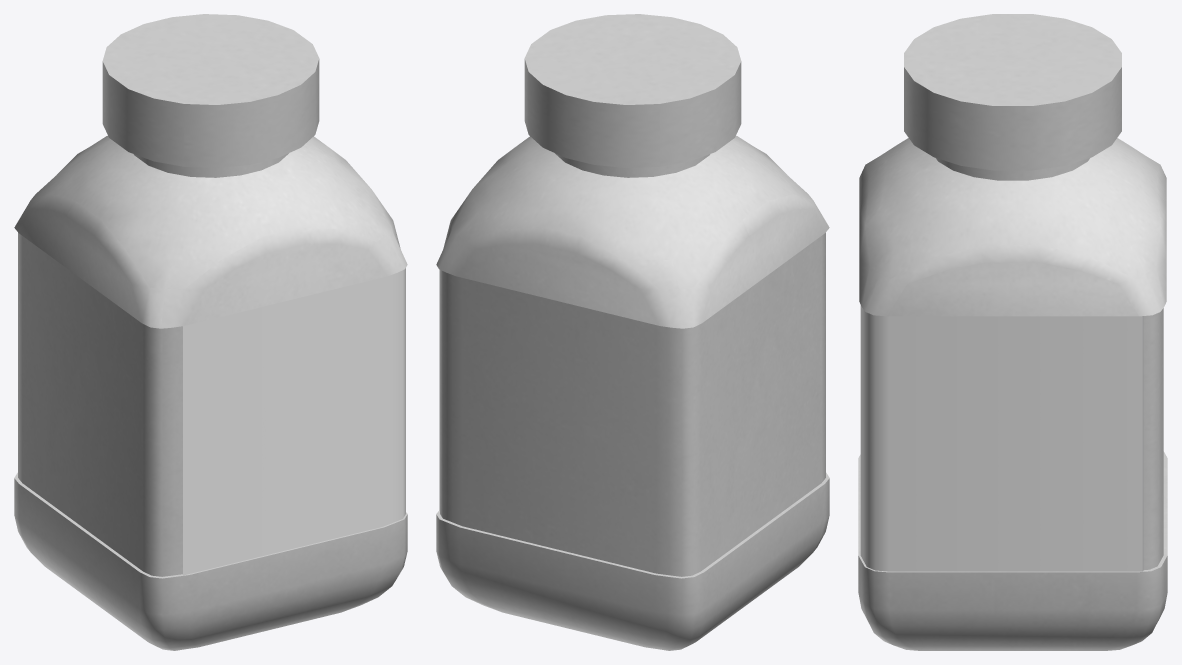
Rendered from SM_硫酸钾.fbx.
The picture shows the model from 3 angles, left to right: view 1: azimuth 30°, elevation 25°; view 2: azimuth 150°, elevation 25°; view 3: azimuth 270°, elevation 25°; orthographic projection. The views are drawn at different scales.
Visible parts, largest first — view 1: SM_硫酸钾, SM_硫酸钾盖子; view 2: SM_硫酸钾, SM_硫酸钾盖子; view 3: SM_硫酸钾, SM_硫酸钾盖子.
Boxes of the visible parts, left/top/right/bottom form: SM_硫酸钾: left=14, top=135, right=407, bottom=650; SM_硫酸钾盖子: left=102, top=14, right=319, bottom=167; SM_硫酸钾: left=436, top=135, right=829, bottom=650; SM_硫酸钾盖子: left=524, top=14, right=741, bottom=167; SM_硫酸钾: left=858, top=138, right=1167, bottom=650; SM_硫酸钾盖子: left=904, top=14, right=1121, bottom=170.
Bounding box in the file's own units: 0.056 × 0.0557 × 0.1084.
